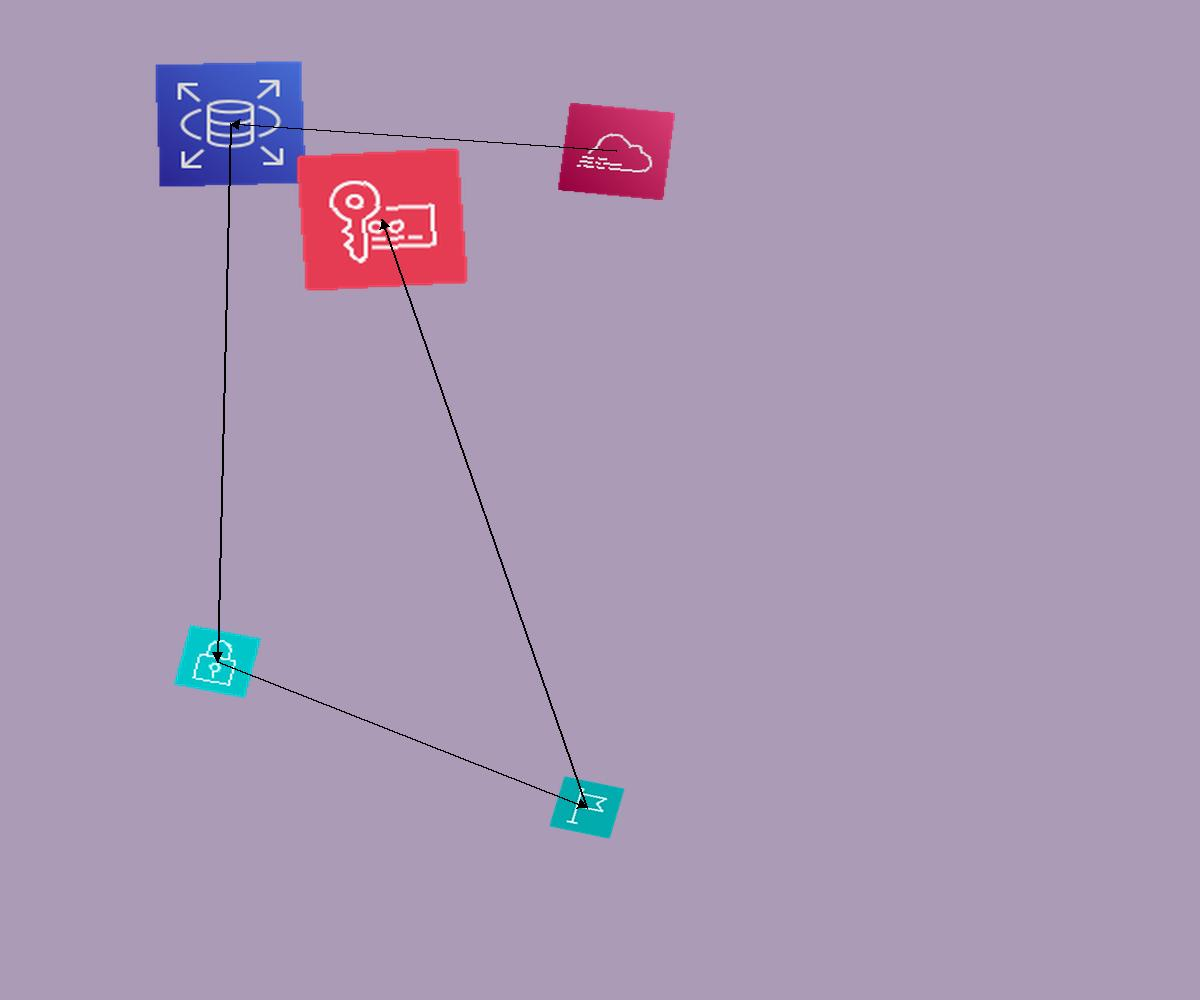AWS-CloudTrail: (557, 102, 676, 201)
AWS-Key-Management-Service: (295, 147, 469, 292)
AWS-Private-subnet: (174, 625, 261, 698)
AWS-RDS: (154, 60, 307, 188)
AWS-Region: (549, 776, 625, 839)
